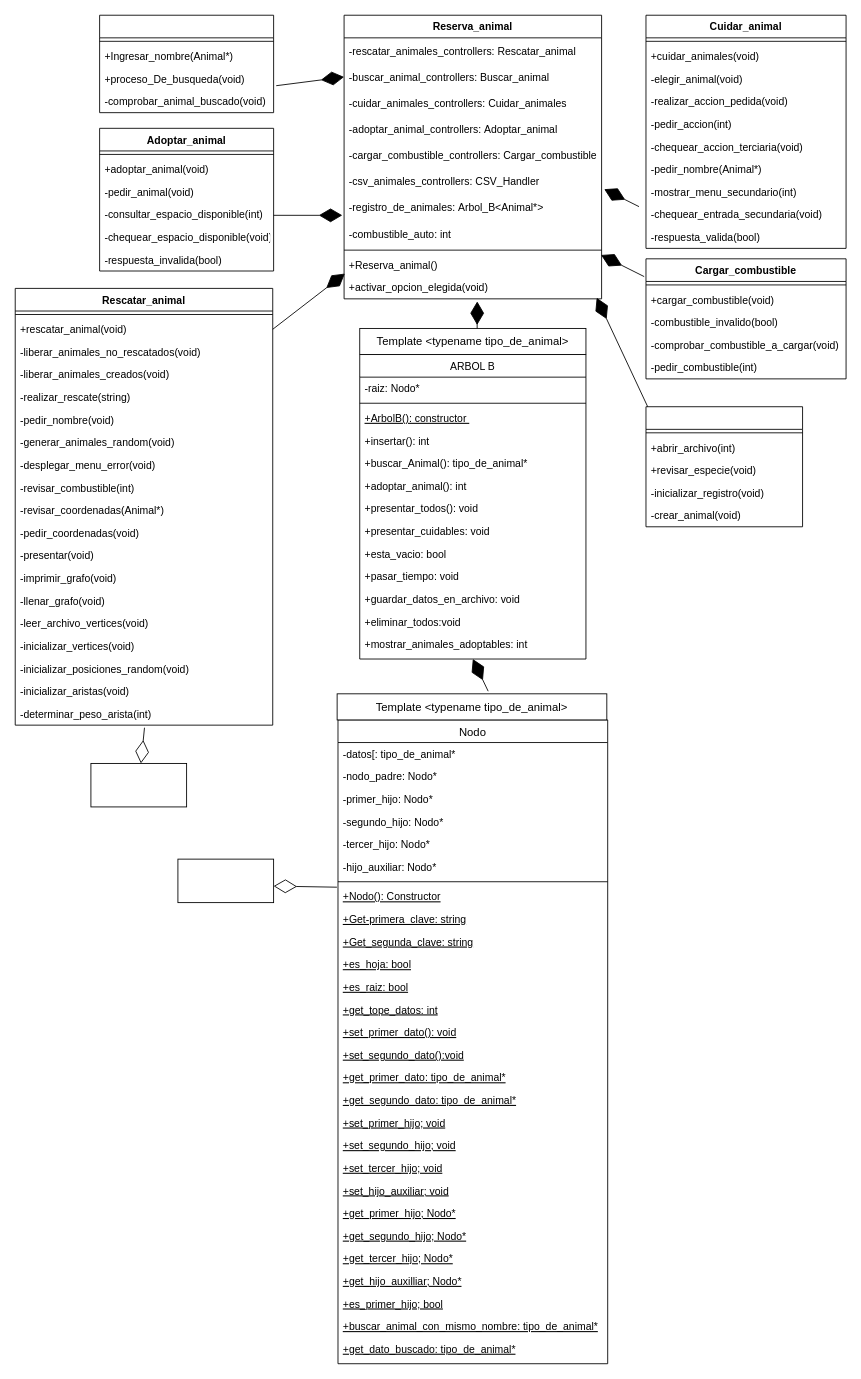
Image size: 861x1379. Some labels were removed from this diagram. Here are the shapes that lost their labels. From the top down, the box of each, then its label:
(99, 14, 274, 113): Buscar_animal
(645, 406, 803, 527): CSV_Handler
(90, 763, 187, 807): Grafo (Otro UML)
(177, 858, 274, 903): Animal (Otro UML)
